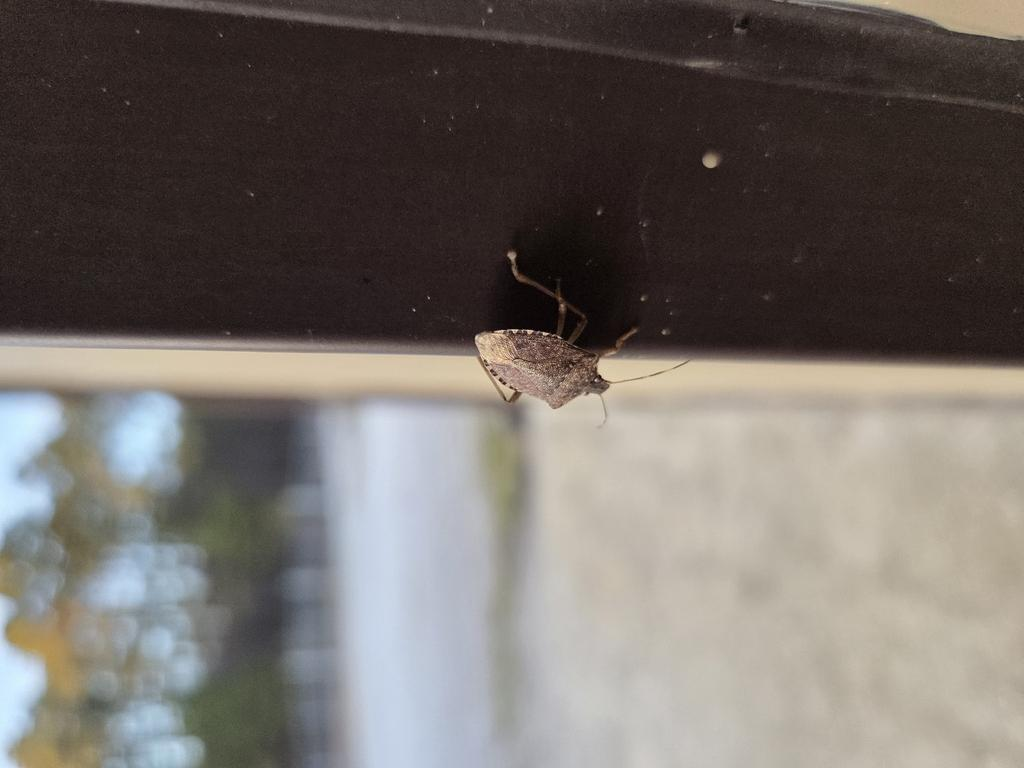stink_bugs: (441, 234, 706, 457)
